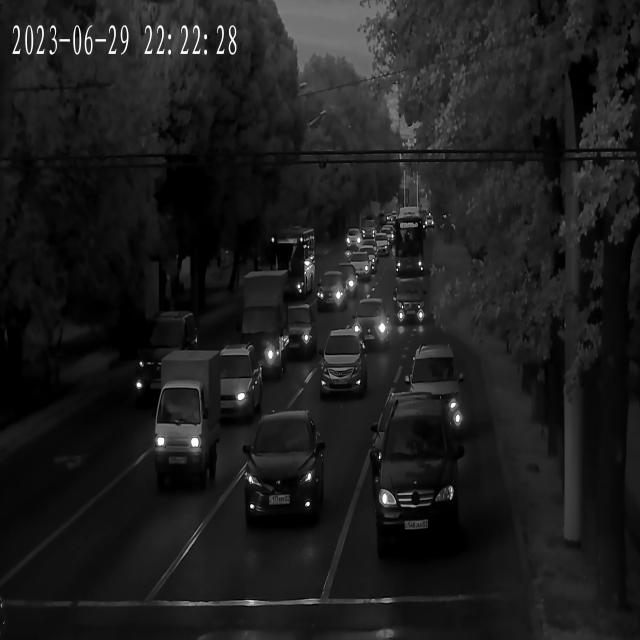Bus: (267, 225, 314, 296), (388, 210, 429, 281)
Car: (369, 404, 464, 535), (238, 413, 322, 524), (395, 345, 468, 430), (135, 310, 198, 400), (391, 388, 466, 453), (207, 346, 261, 420), (320, 330, 371, 398), (225, 333, 287, 384), (270, 306, 318, 356), (348, 299, 388, 350), (391, 284, 427, 326), (316, 272, 354, 311), (342, 257, 374, 282), (354, 243, 378, 266), (372, 238, 390, 255), (345, 232, 362, 249)
Truck: (146, 383, 218, 485), (242, 268, 296, 378)
